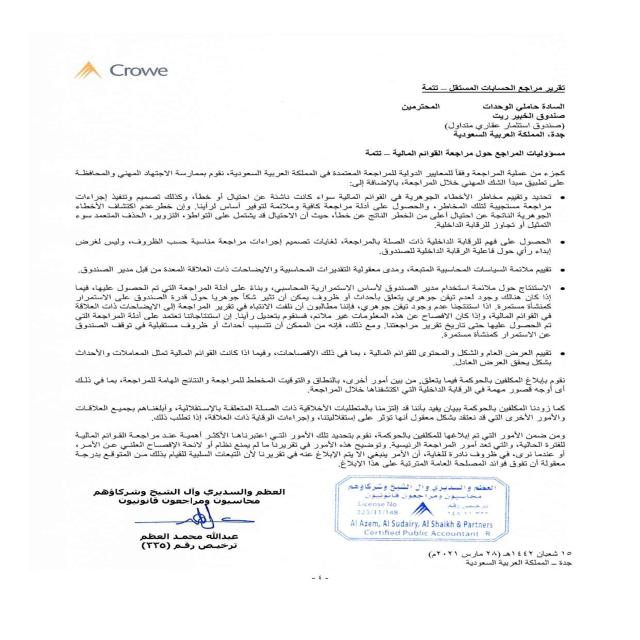auditor_report: (409, 72, 576, 101)
